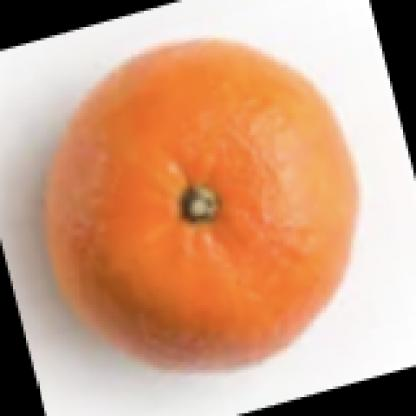orange: (43, 36, 365, 371)
